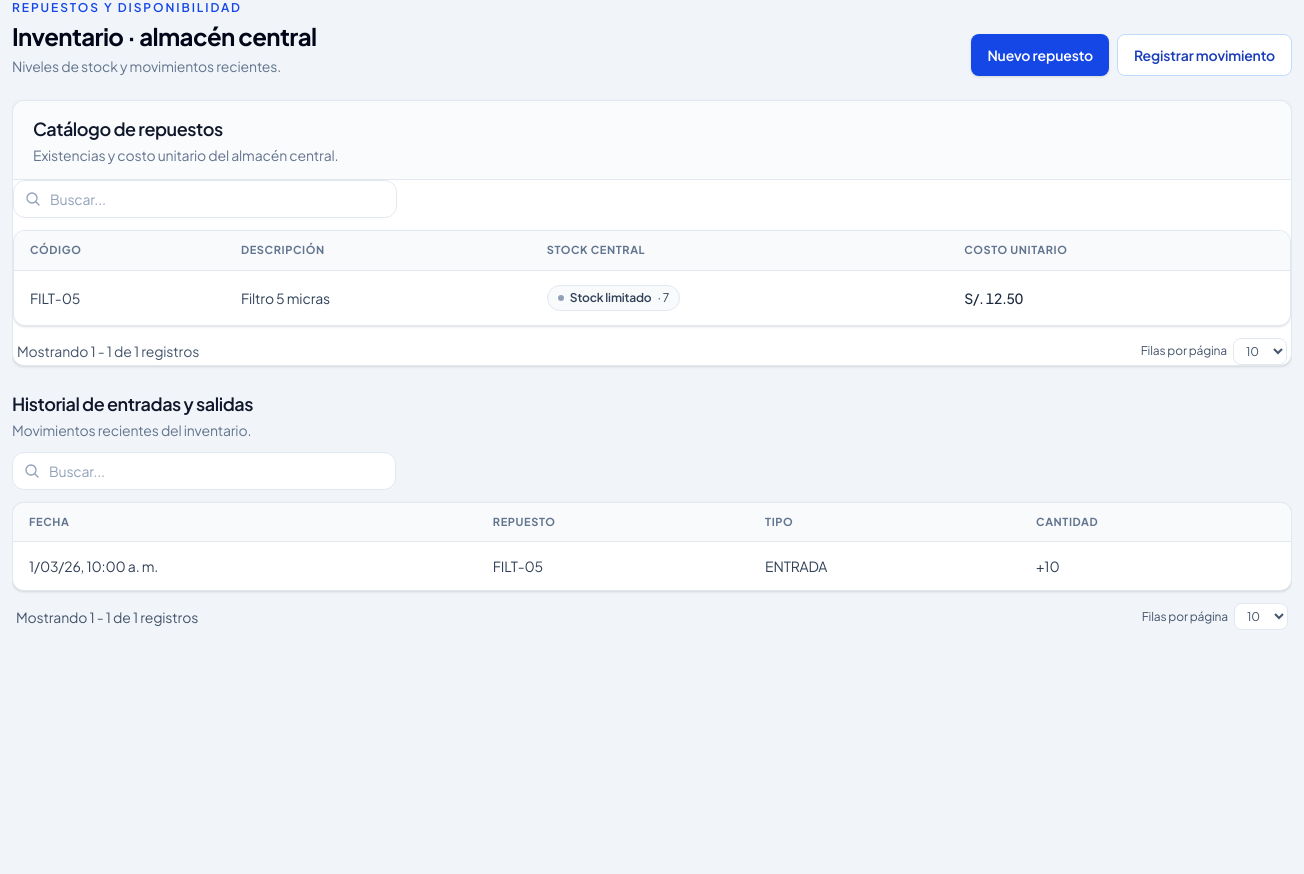
Test: InventarioPage › costo «-1» se rechaza
Click the button "Nuevo repuesto" at (1040, 55), box x1=971 y1=34 x2=1109 y2=76
(page scrolled)
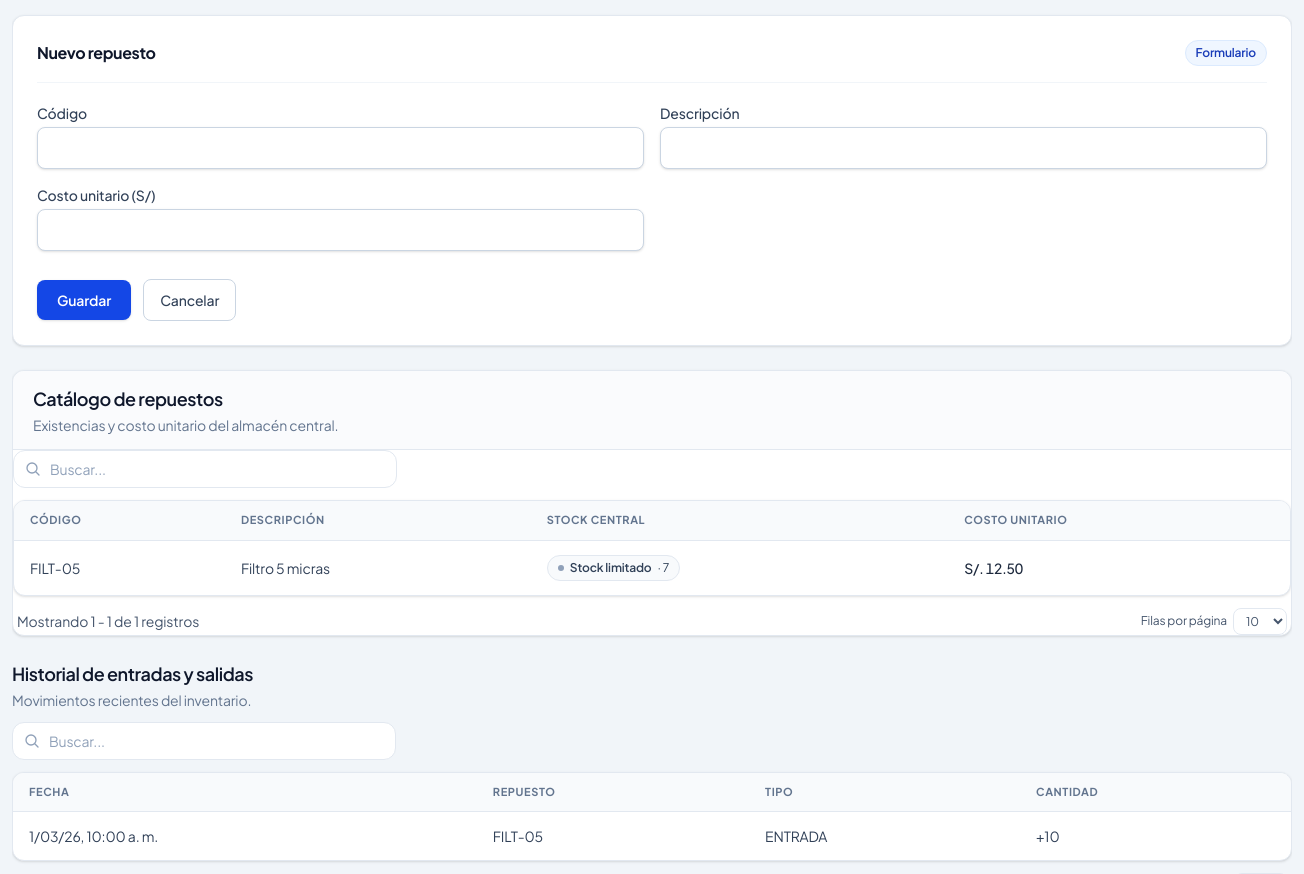
Type "X" into the field labelled "Código" at (340, 148), box x1=37 y1=127 x2=644 y2=169
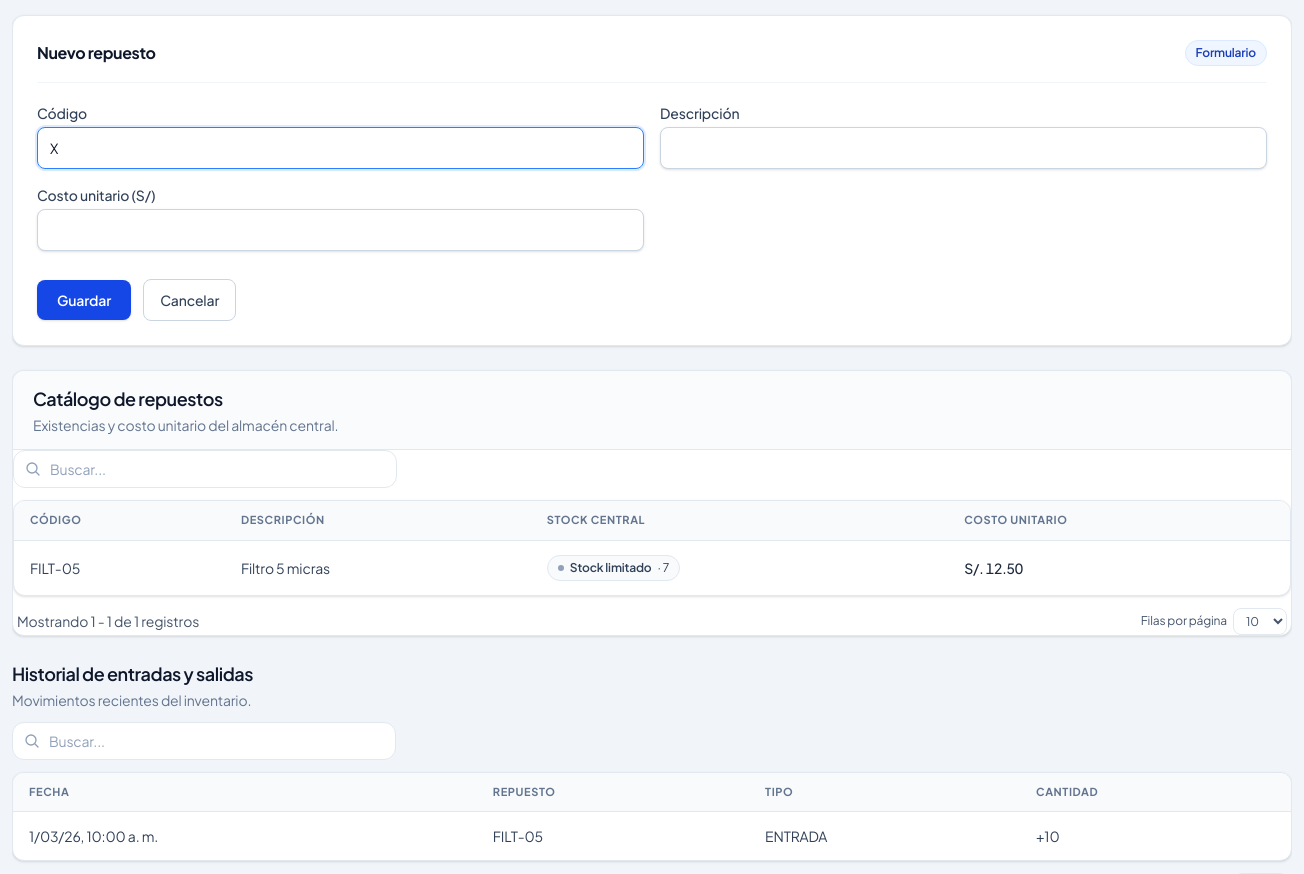
Type "Y" into the field labelled "Descripción" at (964, 148), box x1=660 y1=127 x2=1267 y2=169
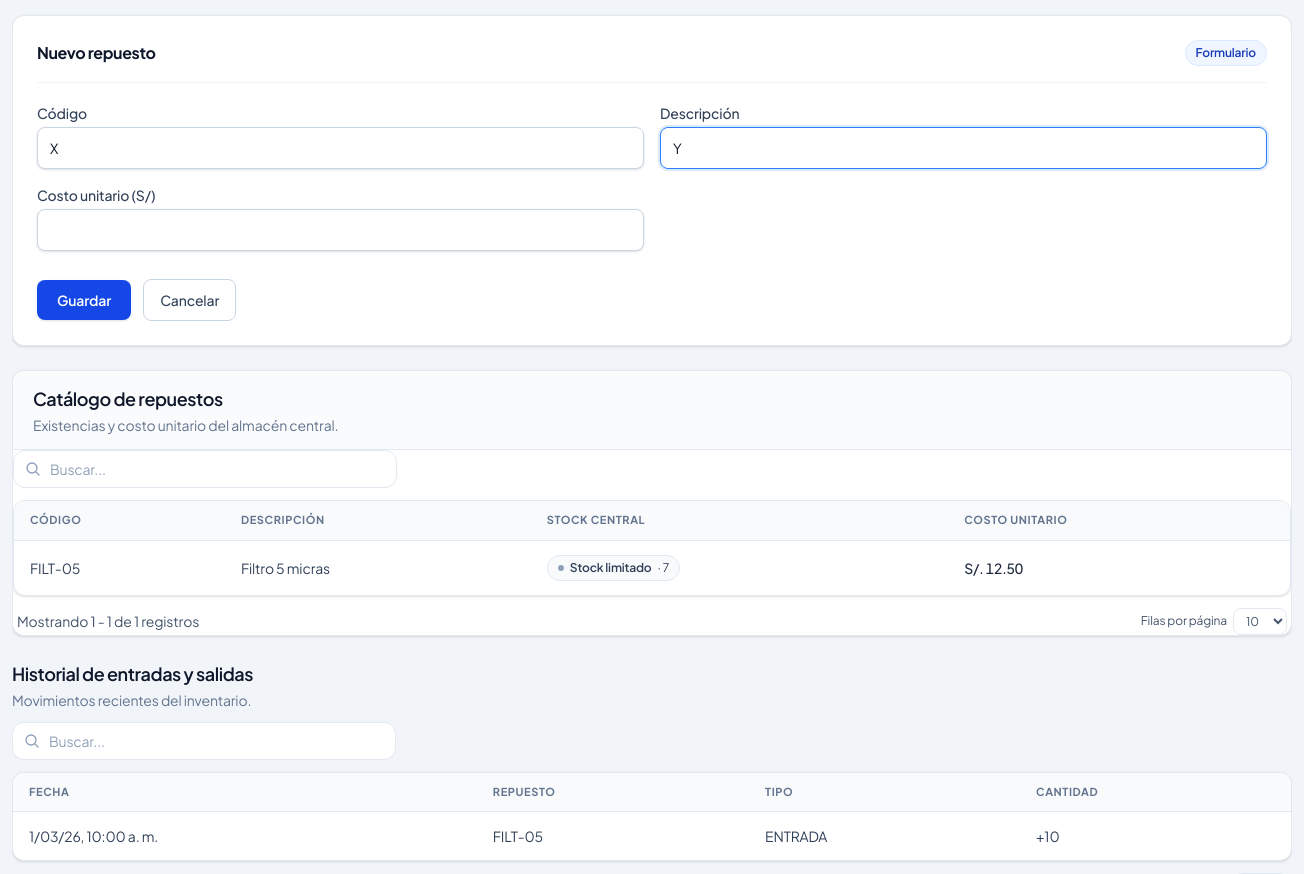
Type "-1" into the field labelled "Costo unitario (S/)" at (340, 230), box x1=37 y1=209 x2=644 y2=251
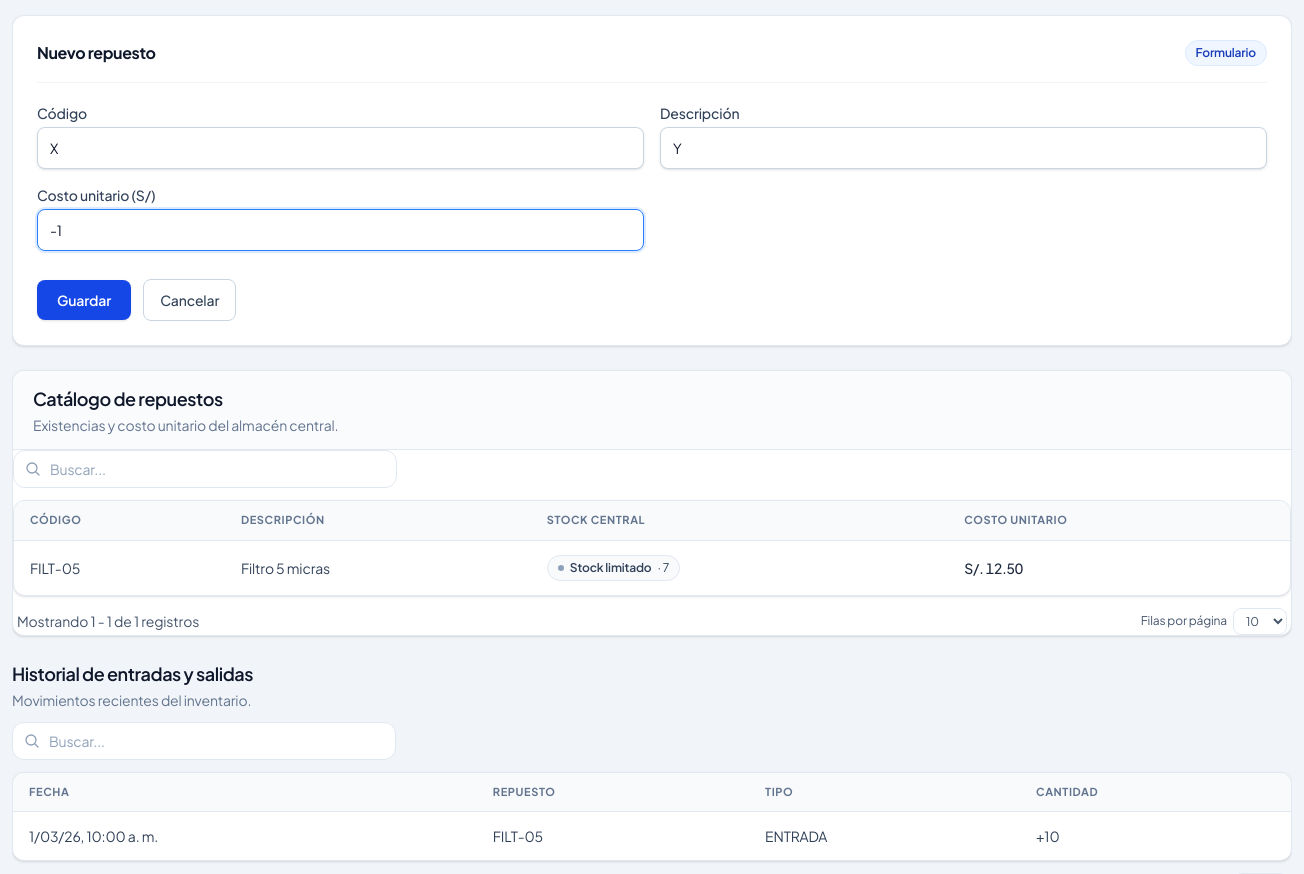
Click the button "Guardar" at (84, 300), box x1=37 y1=280 x2=131 y2=320
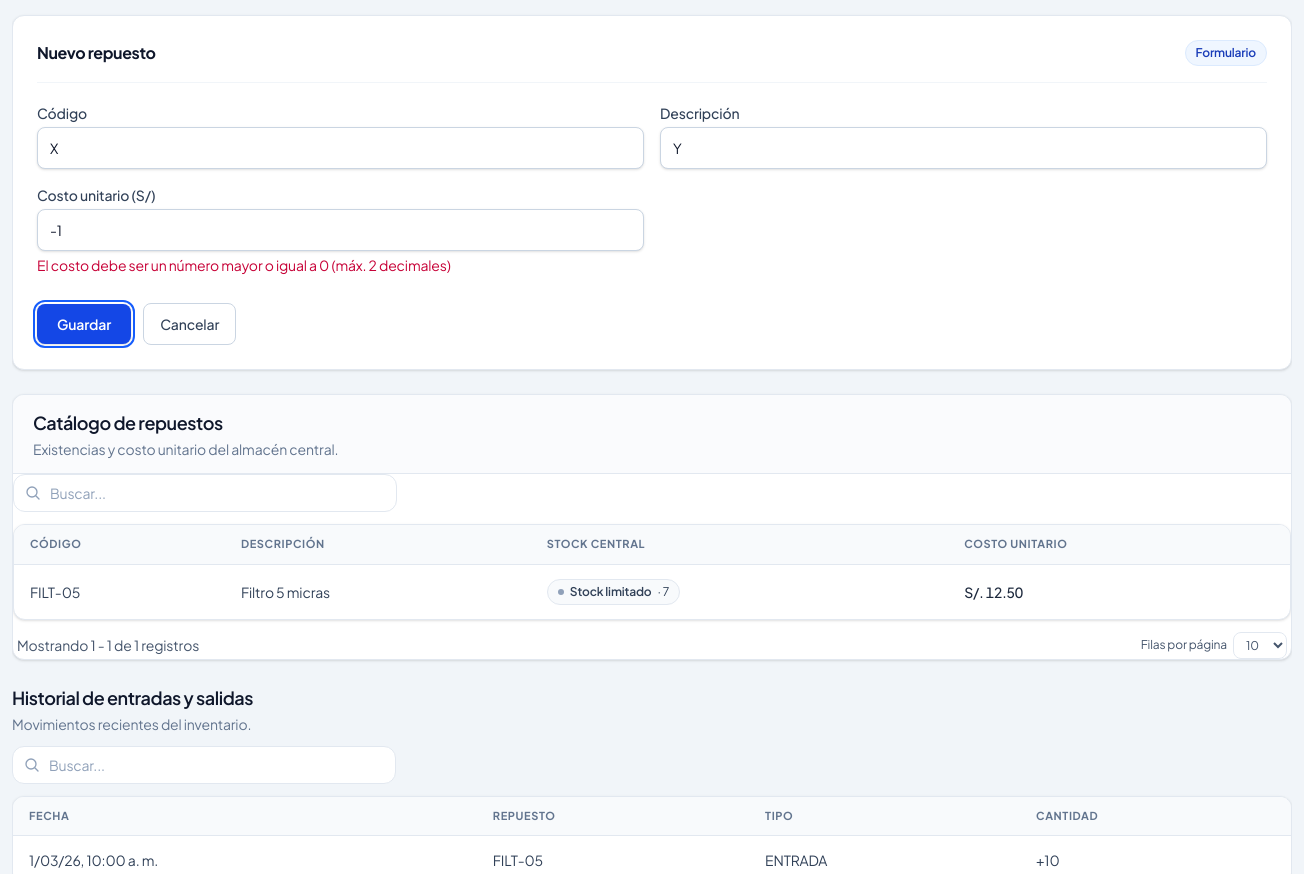
Expected: the text "costo debe ser" is shown, x1=37 y1=256 x2=451 y2=274
